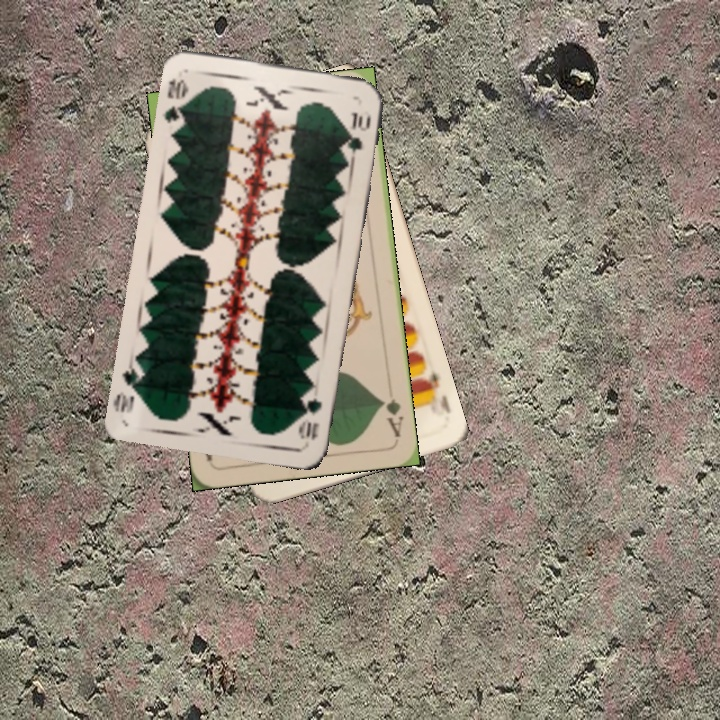E10: (416, 366, 442, 395)
G10: (160, 74, 191, 131), (296, 393, 325, 442)
GA: (377, 394, 406, 440)
